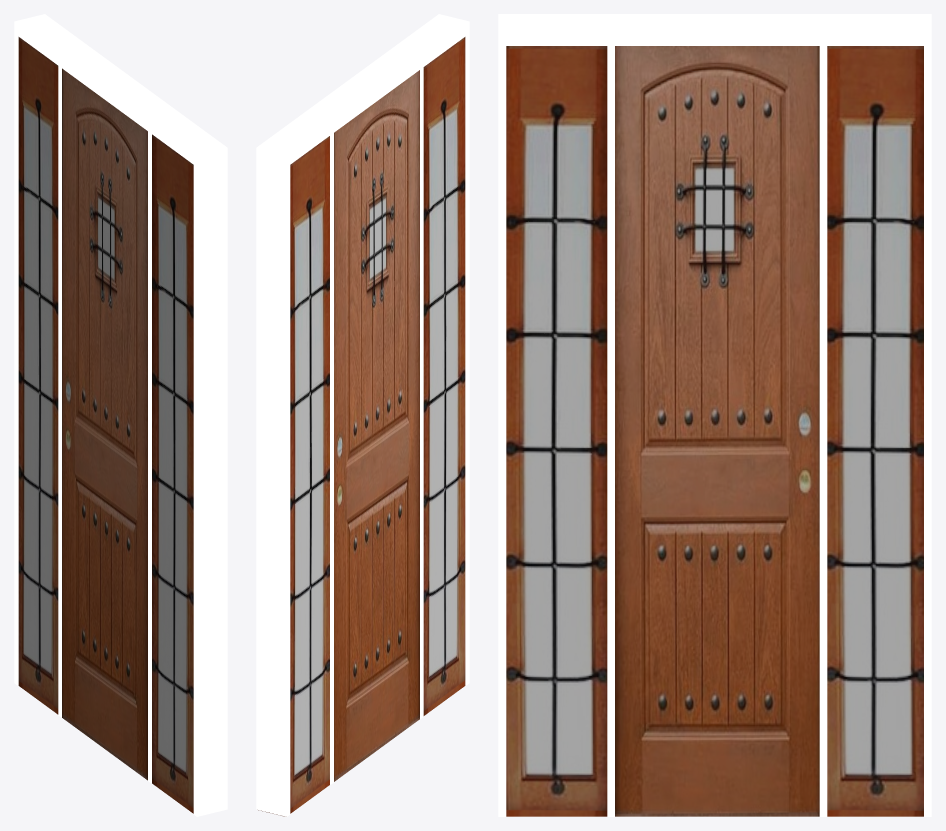
File: double_delux_walkin.685baa9b.gltf
The picture shows the model from 3 angles, left to right: view 1: azimuth 30°, elevation 25°; view 2: azimuth 150°, elevation 25°; view 3: azimuth 270°, elevation 25°; orthographic projection. The views are drawn at different scales.
Parts seen in each view (by area): view 1: door, door_glass, trim; view 2: door, door_glass, trim; view 3: door, door_glass, trim.
Part boxes in pixels (x1,y1,x2,y2): door: [62, 68, 147, 780]; door_glass: [18, 37, 193, 813]; trim: [14, 14, 227, 816]; door: [334, 70, 419, 781]; door_glass: [258, 37, 465, 816]; trim: [256, 14, 469, 816]; door: [615, 46, 819, 816]; door_glass: [506, 46, 923, 816]; trim: [498, 14, 931, 816].
Size of the model in its own units: 0.2897 by 6 by 3.
Materials: 3 (2 with a texture image).
